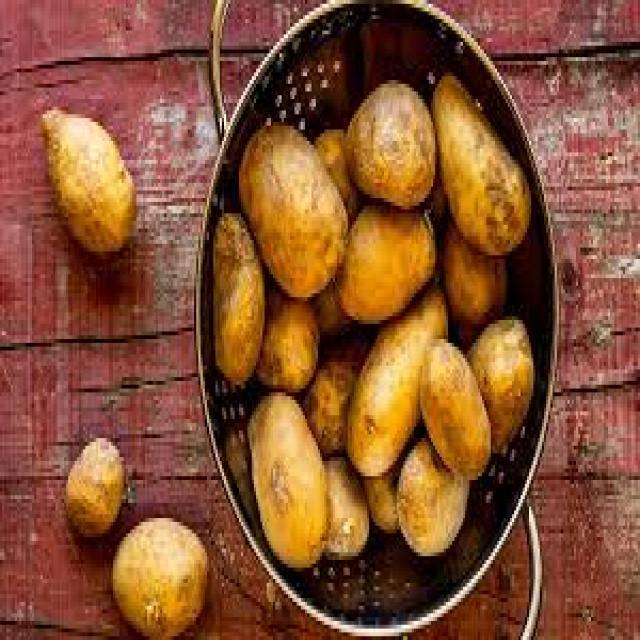Potato: (342, 274, 488, 553), (424, 72, 542, 323), (239, 123, 350, 304), (242, 392, 332, 572), (39, 111, 136, 258), (111, 518, 216, 640), (336, 202, 438, 327), (419, 342, 491, 485), (63, 439, 131, 544)
